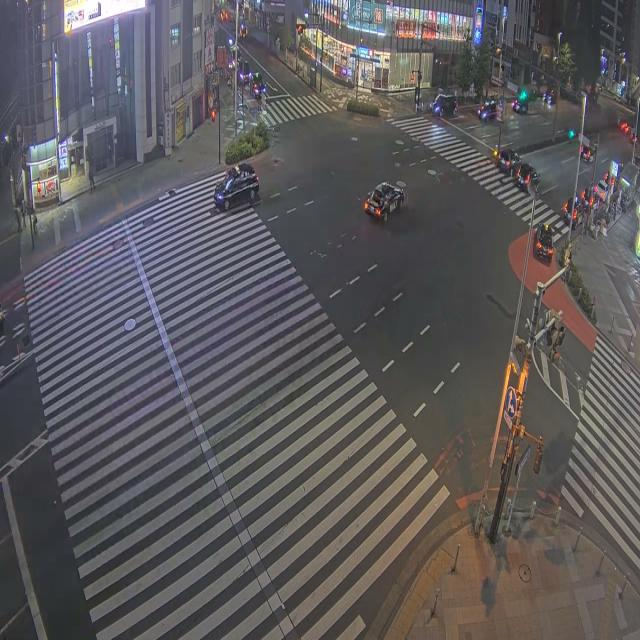car: (214, 163, 258, 211), (364, 183, 404, 221), (534, 224, 553, 262), (494, 148, 520, 175), (562, 195, 582, 225), (429, 94, 456, 116), (516, 163, 538, 189), (477, 101, 497, 121), (251, 73, 265, 98), (238, 61, 252, 84), (593, 180, 607, 201), (580, 146, 595, 163), (512, 99, 527, 113), (542, 91, 554, 106), (238, 23, 247, 39), (618, 120, 629, 133), (630, 129, 636, 144), (219, 10, 227, 20)
motorcycle: (0, 304, 3, 334)
